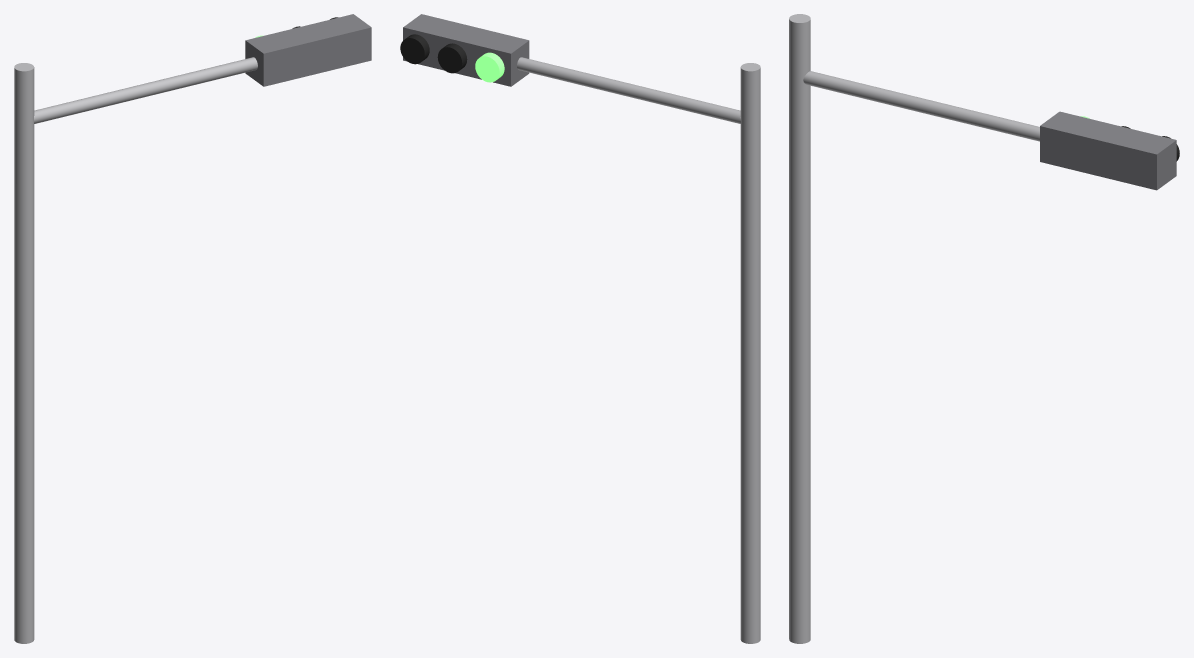
Rendered from traffic_light_green.glb.
The picture shows the model from 3 angles, left to right: view 1: azimuth 30°, elevation 25°; view 2: azimuth 150°, elevation 25°; view 3: azimuth 330°, elevation 25°; orthographic projection. The views are drawn at different scales.
Visible parts, largest first — view 1: Pole, Housing, Arm; view 2: Pole, Housing, Arm, Lens_Green, Lens_Red, Lens_Yellow; view 3: Pole, Housing, Arm.
Part boxes in pixels (box(x1,y1,x2,y2)): Pole: box(14, 63, 34, 643); Housing: box(245, 14, 371, 86); Arm: box(34, 57, 257, 123); Pole: box(740, 63, 760, 643); Housing: box(403, 14, 529, 86); Arm: box(517, 57, 740, 123); Lens_Green: box(475, 52, 504, 82); Lens_Red: box(400, 34, 429, 64); Lens_Yellow: box(437, 43, 467, 73); Pole: box(789, 14, 810, 643); Housing: box(1040, 111, 1176, 190); Arm: box(803, 71, 1039, 141).
Size of the model in its own units: 2.41 by 3.8 by 0.28.
